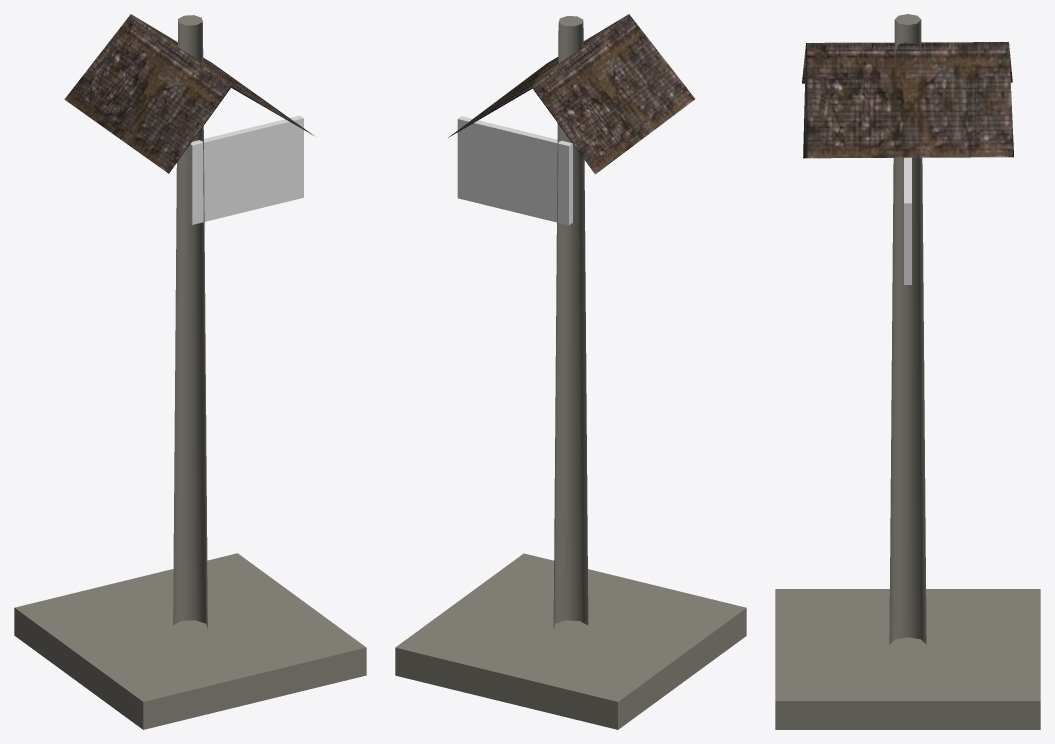
The picture shows the model from 3 angles, left to right: view 1: azimuth 30°, elevation 25°; view 2: azimuth 150°, elevation 25°; view 3: azimuth 270°, elevation 25°; orthographic projection. The views are drawn at different scales.
Visible parts, largest first — view 1: dweller_building_claim_post; view 2: dweller_building_claim_post; view 3: dweller_building_claim_post.
Boxes of the visible parts, x1,y1,x2,y2 form: dweller_building_claim_post: [14, 14, 366, 729]; dweller_building_claim_post: [395, 14, 746, 729]; dweller_building_claim_post: [775, 14, 1040, 729].
Bounding box in the file's own units: 1 × 2.72 × 1.
3 materials, 1 textured.
